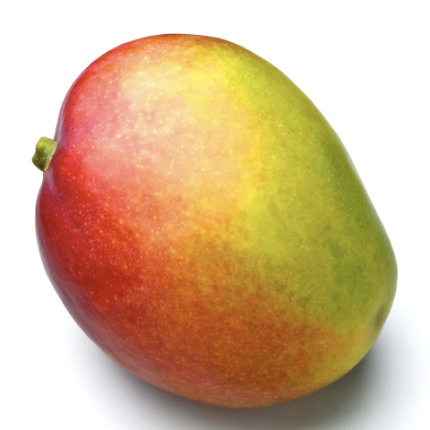mango: (0, 4, 430, 425)
